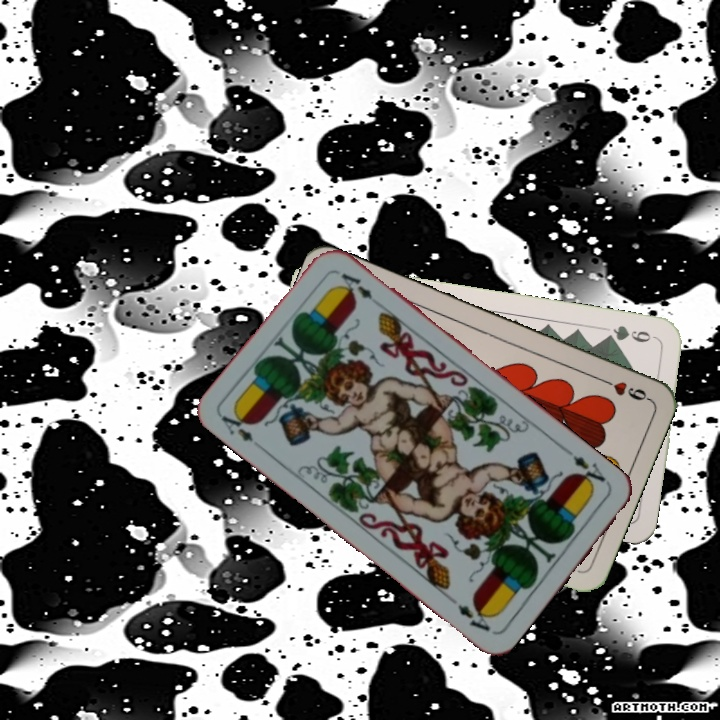EA: (561, 445, 611, 491), (216, 407, 256, 444)
G9: (600, 321, 660, 345)
H9: (595, 374, 652, 404)
